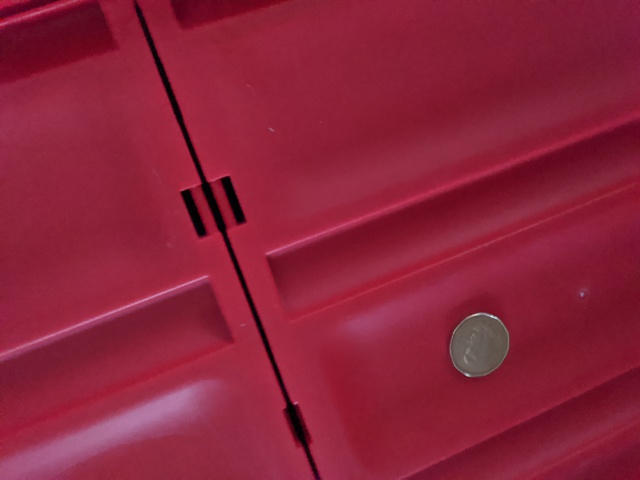loonie: (433, 308, 518, 384)
